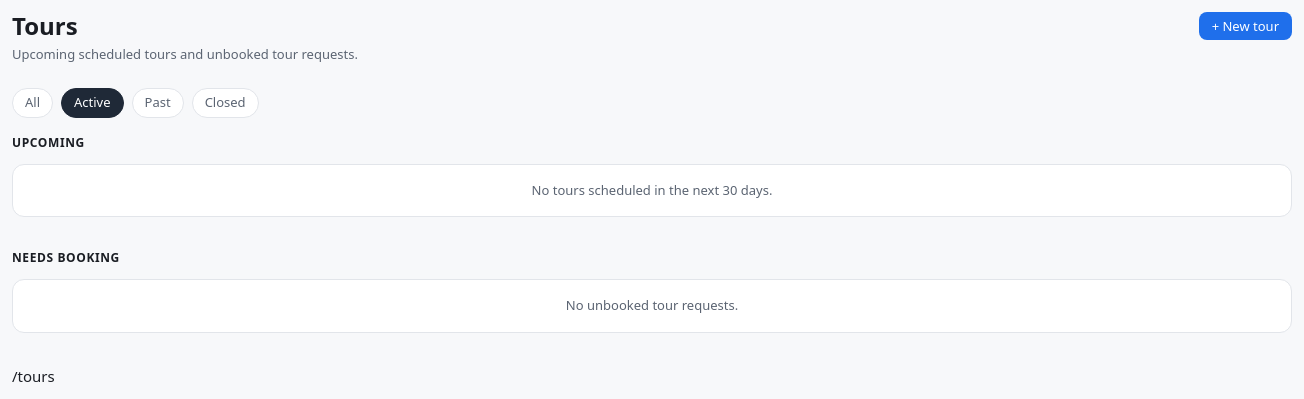
ToursPage › clicking the Closed tab switches views: title, rows with tenant, property, DATE, and badges
This screenshot has width=1304, height=399.
Click the link "Closed".
click(225, 103)  # box [192,88,259,118]
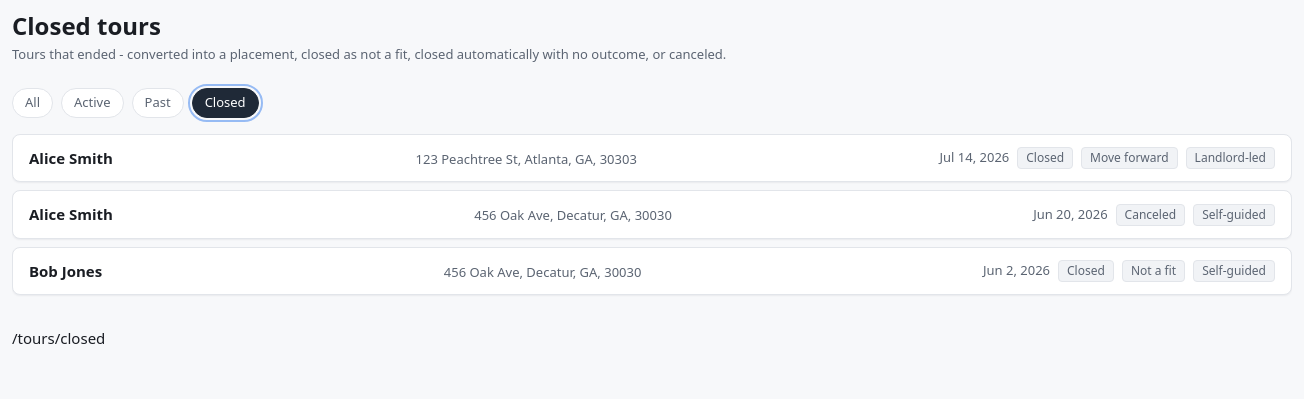
Expected: the heading "Closed tours" is shown, [12,12,161,41]
Expected: the number of list items is 3, [12,134,1292,182]; [12,190,1292,239]; [12,247,1292,295]
Expected: the text "Alice Smith" next to "123 Peachtree St, Atlanta, GA, 30303" is shown, [29,148,113,168]
